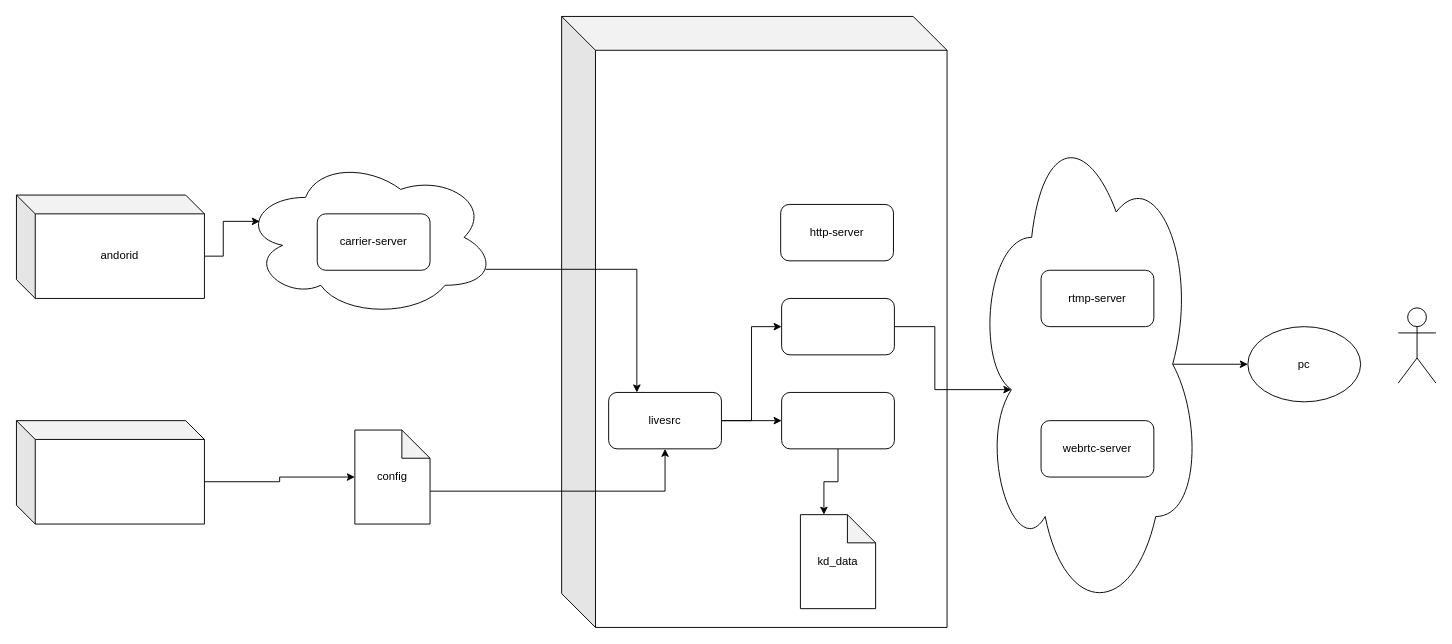
This 1452x644 diagram has some shape labels left out. Each missing label, with the centre of its shape:
"client" belongs at (x=1416, y=345).
"ipc" belongs at (x=110, y=472).
"livecam" belongs at (x=837, y=326).
"liverec" belongs at (x=837, y=420).
